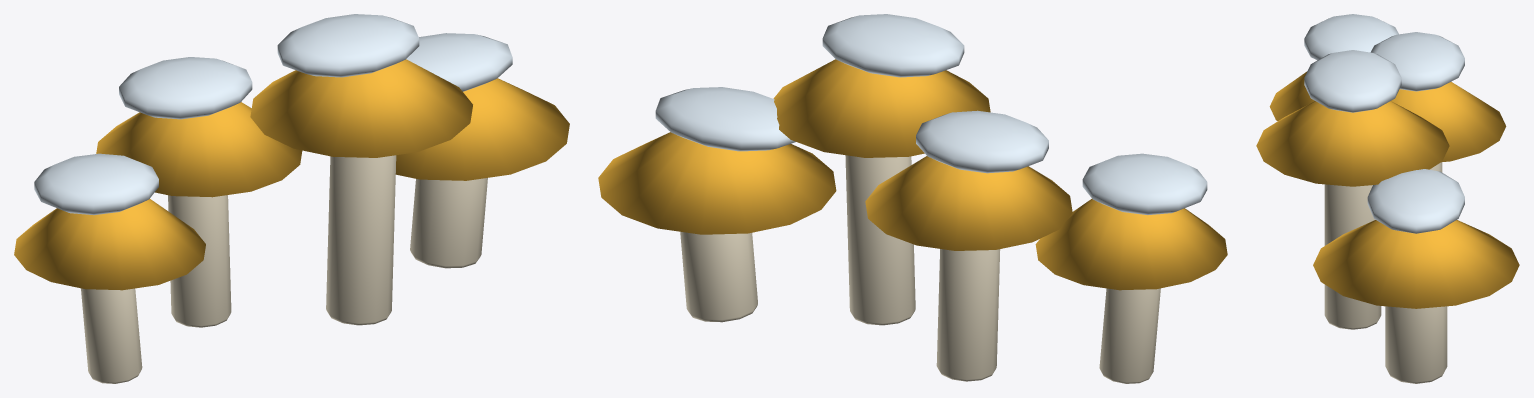
The model's file is r086_development_northern_kingdom_additions_northern_16.glb.
3 views of the same model, side by side, from view 1: azimuth 30°, elevation 25°; view 2: azimuth 150°, elevation 25°; view 3: azimuth 270°, elevation 25° (orthographic). The views are drawn at different scales.
Visible parts, largest first — view 1: r086_development_northern_kingdom_additions_northern_16.001; view 2: r086_development_northern_kingdom_additions_northern_16.001; view 3: r086_development_northern_kingdom_additions_northern_16.001.
Boxes of the visible parts, x1,y1,x2,y2 form: r086_development_northern_kingdom_additions_northern_16.001: [14, 14, 569, 383]; r086_development_northern_kingdom_additions_northern_16.001: [598, 14, 1227, 383]; r086_development_northern_kingdom_additions_northern_16.001: [1256, 14, 1519, 383].
Size of the model in its own units: 3.37 by 1.65 by 1.58.
